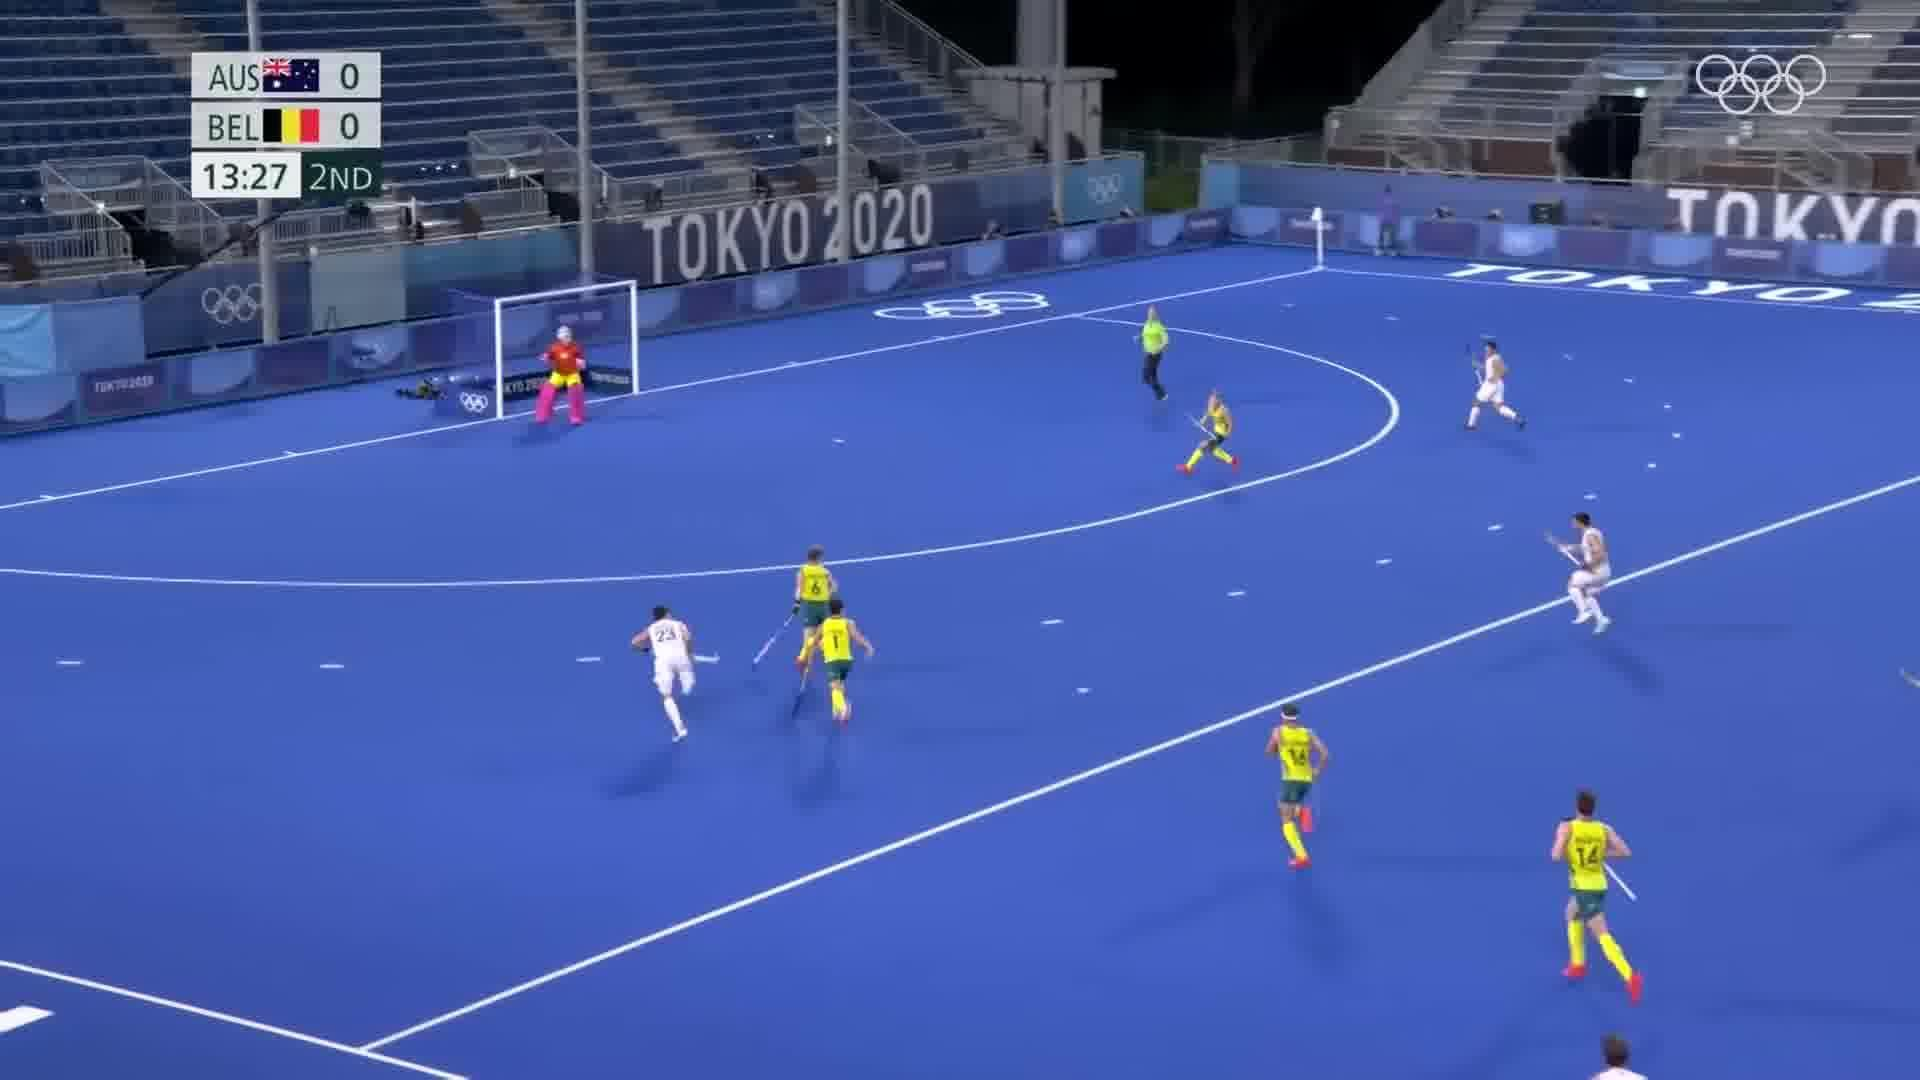ball: (1073, 680, 1096, 702)
